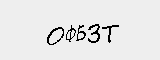Б: (76, 22, 86, 41)
З: (87, 21, 100, 44)
О: (47, 22, 64, 48)
Т: (100, 22, 117, 42)
Ф: (64, 23, 76, 43)
